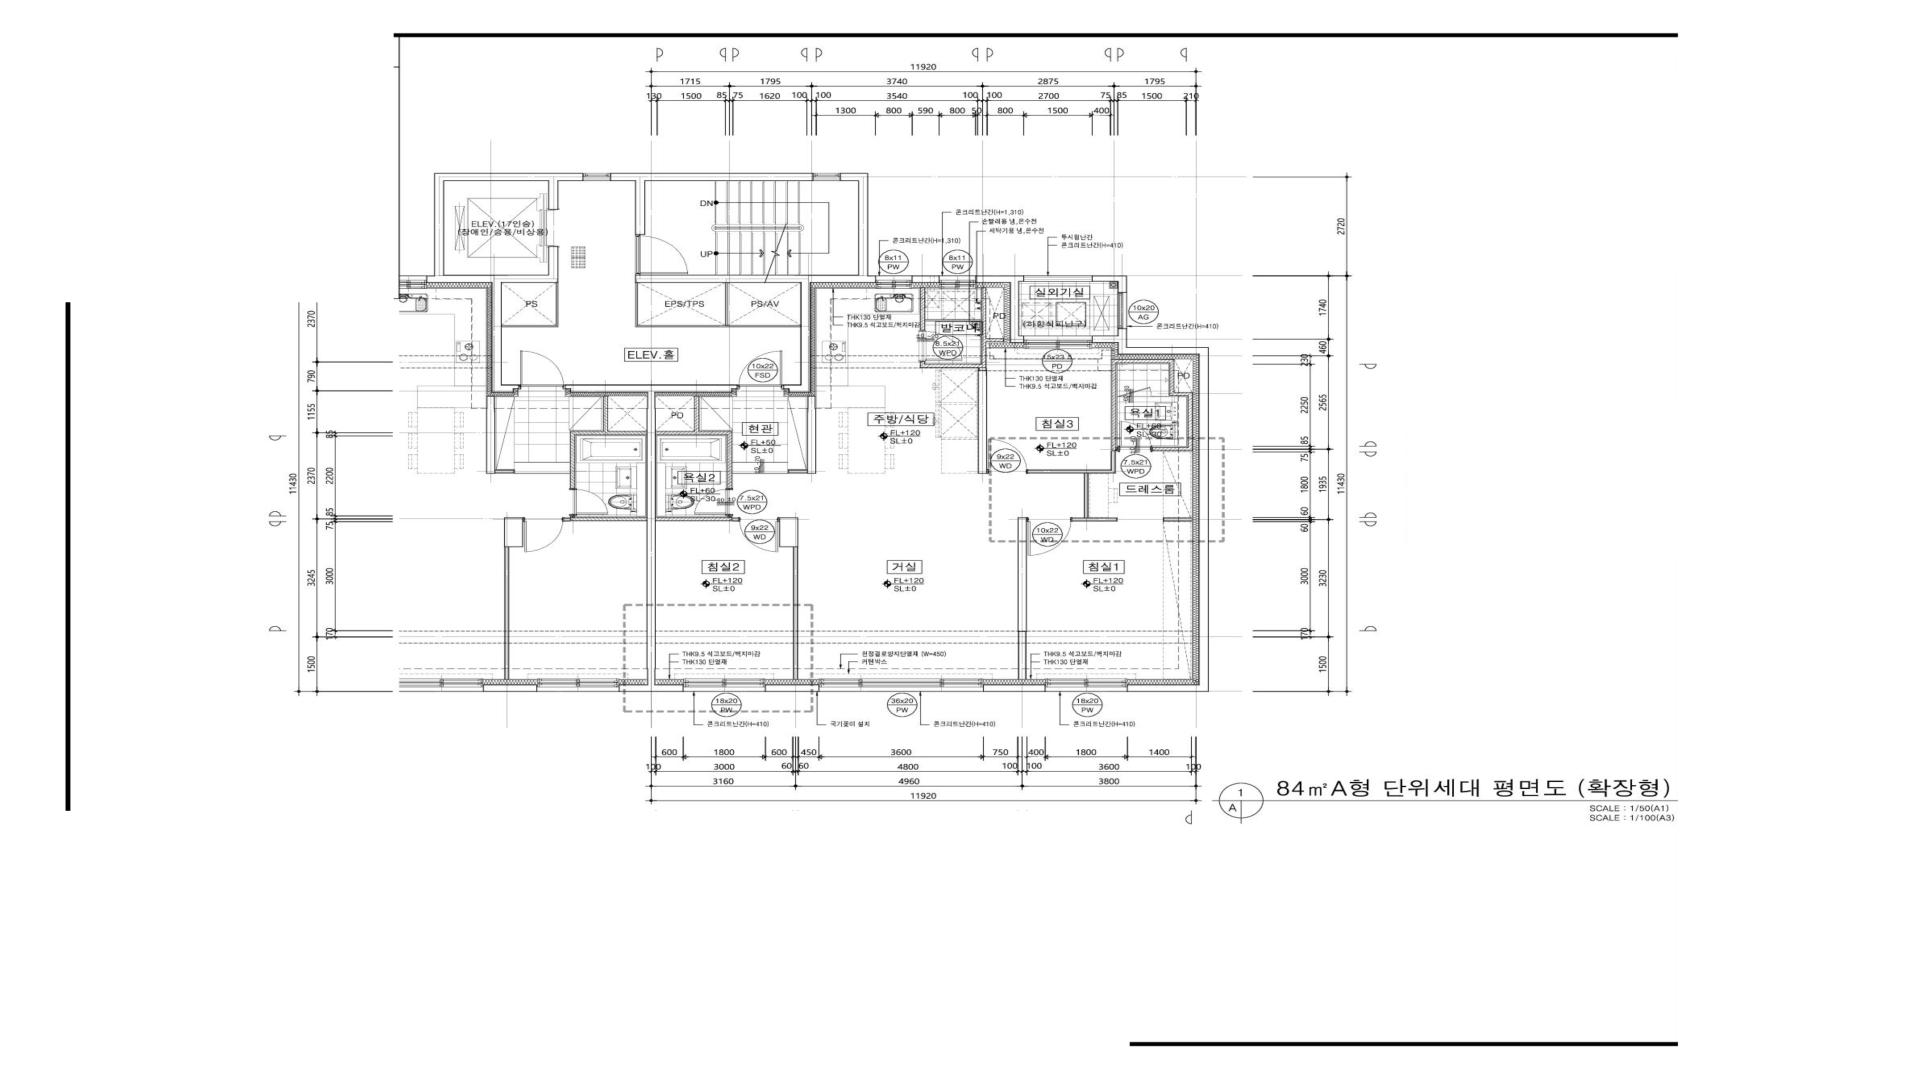background: (0, 0, 1919, 1080)
door: (634, 235, 688, 276), (518, 351, 566, 396), (736, 351, 783, 396), (1027, 517, 1072, 555), (733, 517, 779, 553), (524, 517, 570, 553), (988, 439, 1029, 473), (919, 330, 963, 361), (695, 488, 733, 517), (1118, 421, 1153, 452), (570, 488, 608, 516)
wall: (636, 173, 876, 393), (1118, 330, 1209, 691), (646, 385, 736, 691), (1029, 359, 1193, 521), (434, 173, 582, 284), (611, 173, 812, 235), (636, 282, 800, 327), (657, 397, 733, 488), (920, 287, 1004, 368), (501, 284, 558, 327), (789, 396, 816, 473), (1018, 517, 1026, 679), (978, 368, 986, 473), (1010, 284, 1023, 343), (793, 547, 798, 679), (1092, 276, 1127, 293), (779, 517, 798, 547), (984, 684, 1046, 691), (766, 684, 819, 691), (655, 517, 733, 521), (977, 276, 1023, 282), (549, 181, 558, 210), (913, 276, 939, 284), (920, 287, 924, 330), (1093, 336, 1118, 343), (924, 319, 981, 322), (1163, 517, 1192, 521), (1153, 396, 1171, 397)
window: (819, 678, 984, 691), (683, 678, 765, 691), (1046, 678, 1127, 691), (1023, 336, 1092, 349), (939, 276, 977, 289), (1023, 276, 1092, 282), (877, 276, 911, 289), (1118, 293, 1127, 328), (814, 173, 841, 181), (583, 173, 611, 181)
